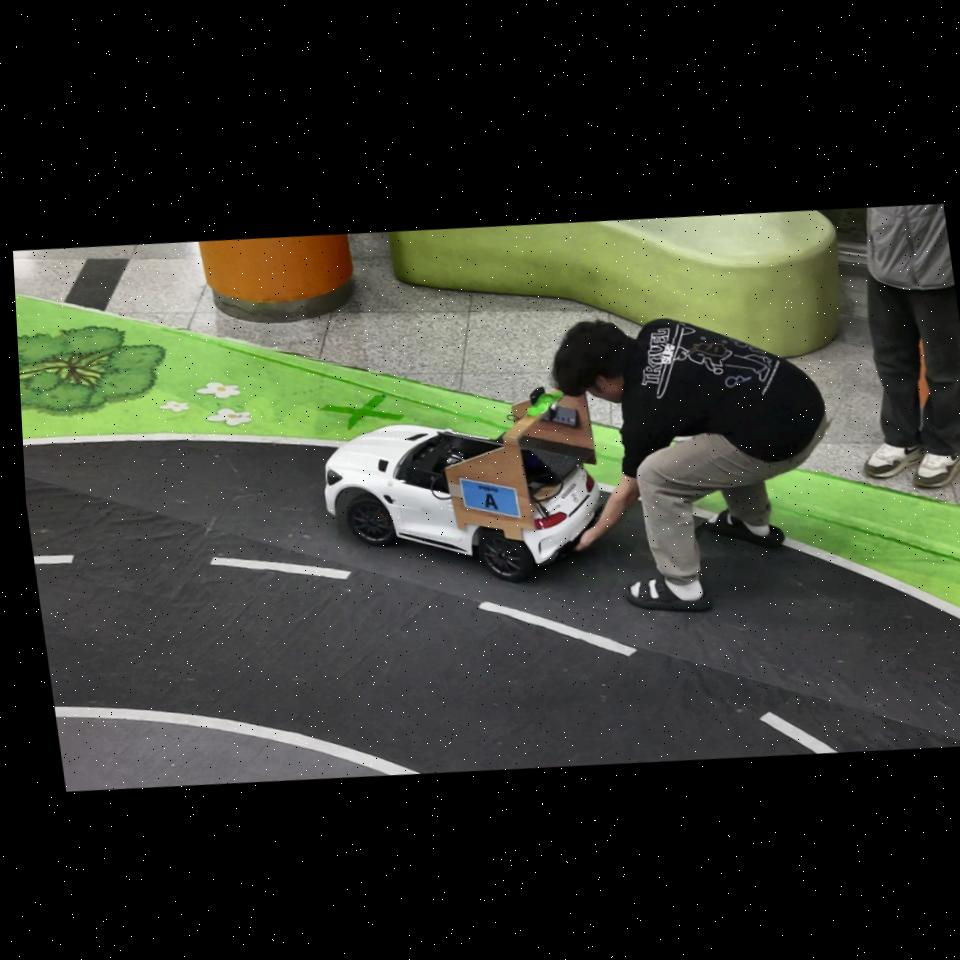broken_line: (478, 601, 637, 656), (759, 711, 838, 753), (210, 557, 352, 579), (34, 555, 75, 564)
